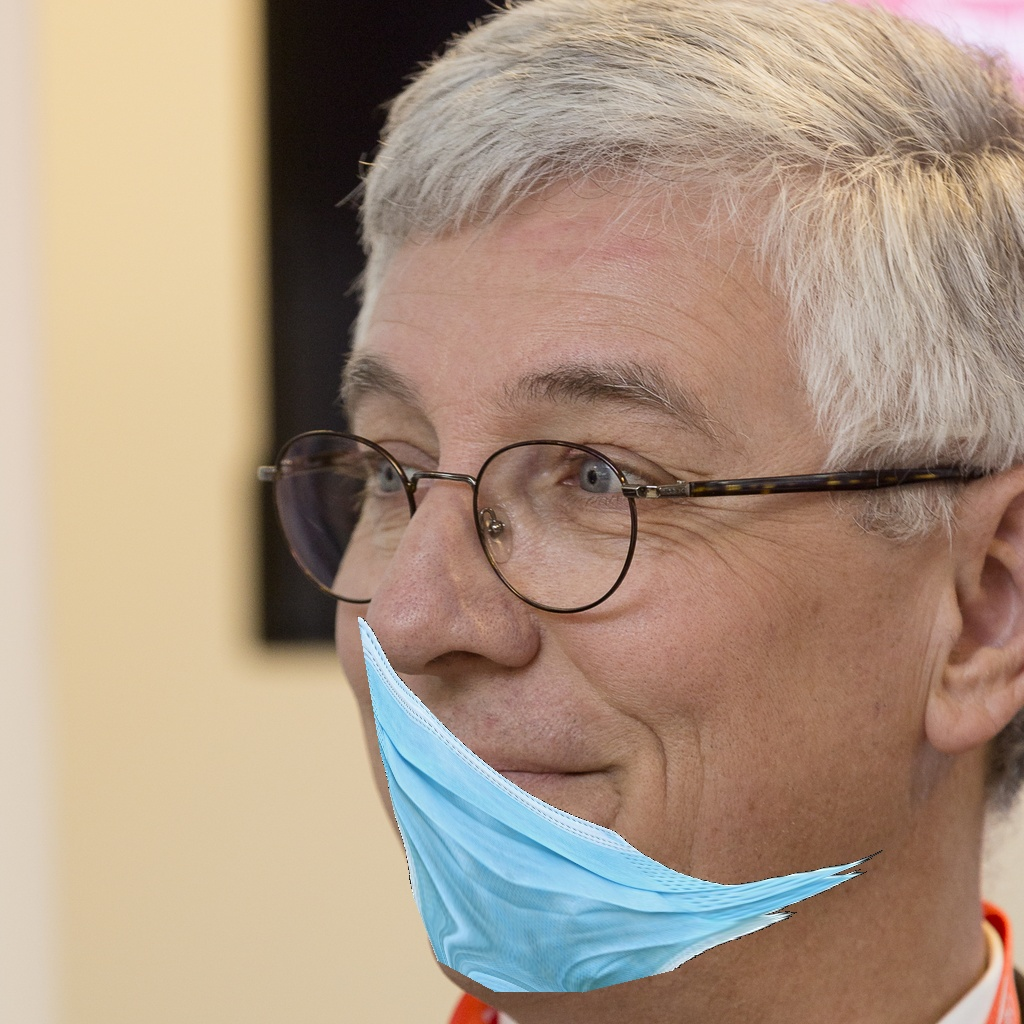mascarilla_mal_puesta: (277, 333, 899, 1024)
